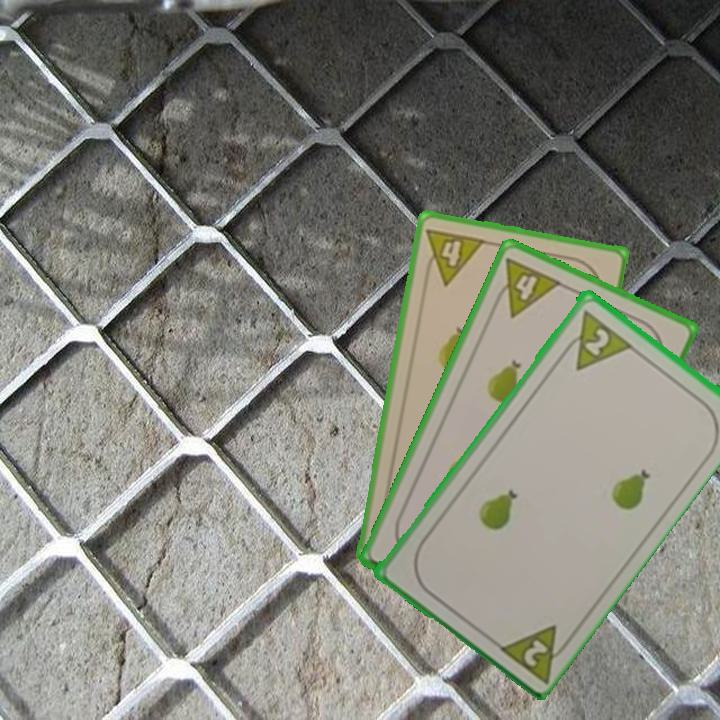2p: (492, 620, 577, 685), (555, 305, 633, 373)
4p: (488, 253, 564, 320), (419, 224, 488, 288)
